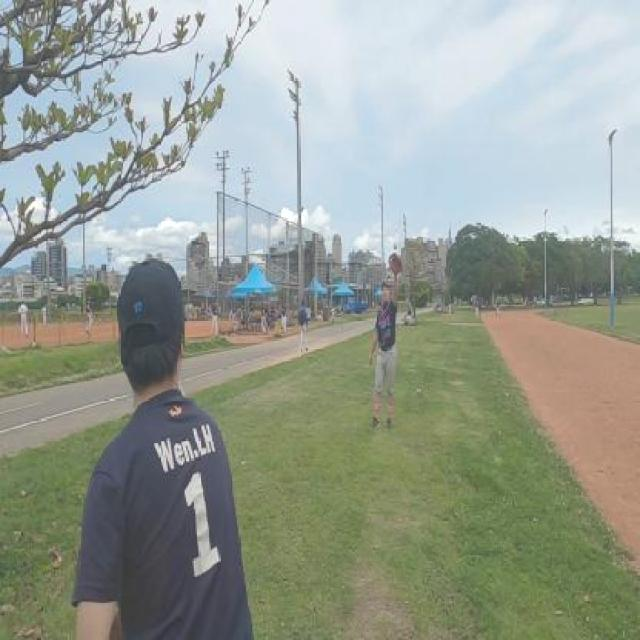ball: (394, 242, 398, 250)
